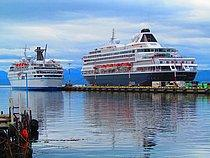Ship: (81, 26, 200, 87), (8, 41, 70, 93)
